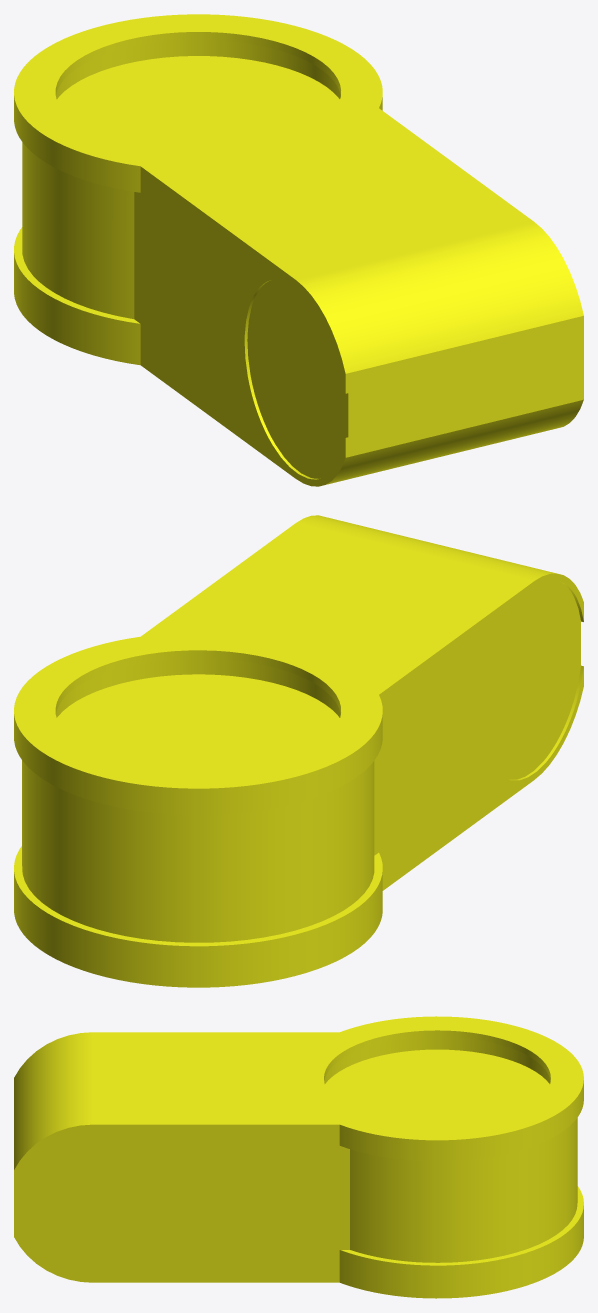
The model's file is 0221_REV-A_URDF_HeadClamp.dae.
3 views of the same model, one above another, from view 1: azimuth 30°, elevation 25°; view 2: azimuth 150°, elevation 25°; view 3: azimuth 270°, elevation 25° (orthographic). The views are drawn at different scales.
Visible parts, largest first — view 1: Brep; view 2: Brep; view 3: Brep.
Part boxes in pixels (<box>): Brep: <box>14,14,583,486</box>; Brep: <box>14,515,583,987</box>; Brep: <box>14,1016,583,1298</box>.
Bounding box in the file's own units: 126 × 245 × 75.
